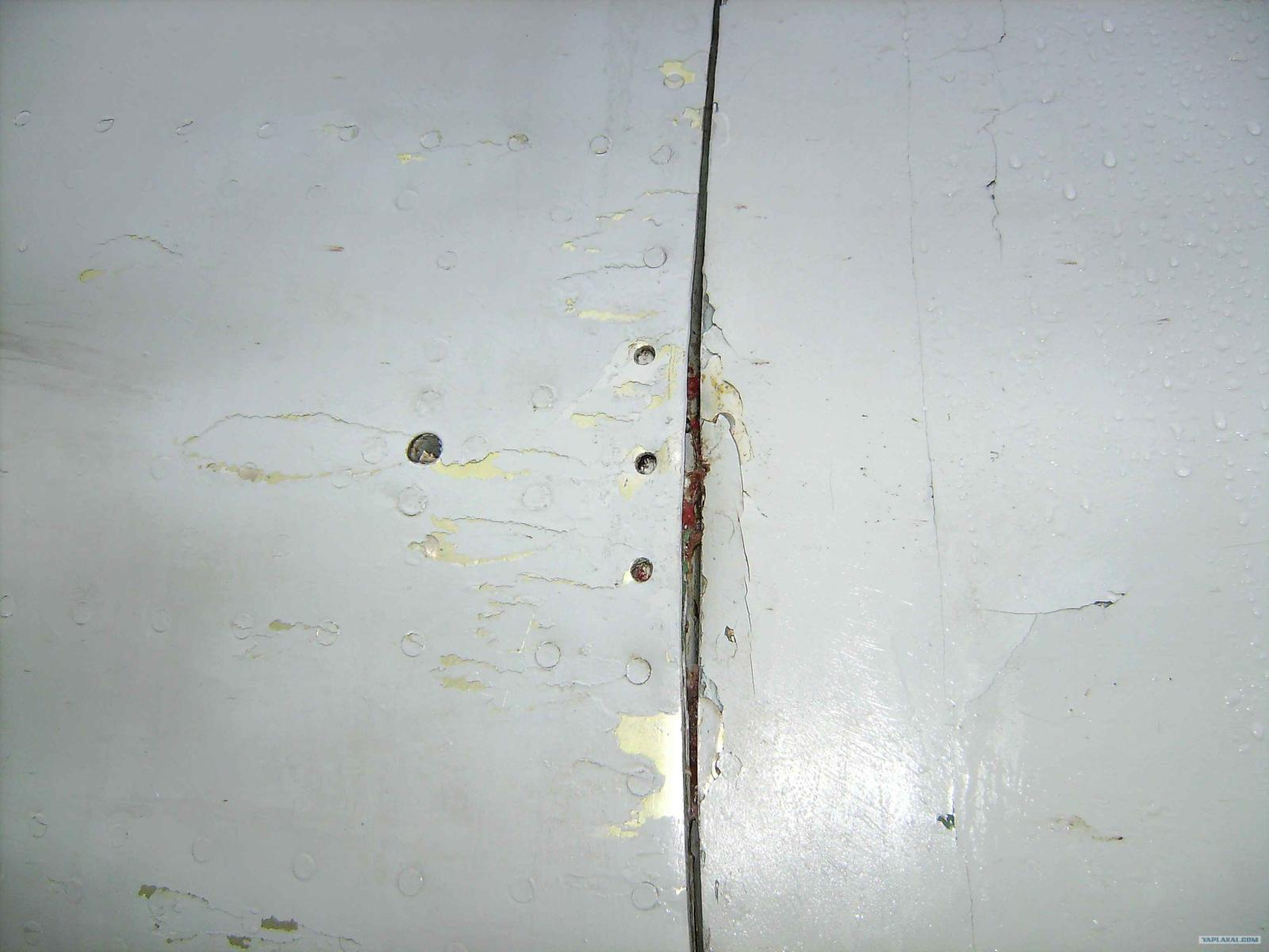Fuselage_damage: (681, 0, 723, 952)
